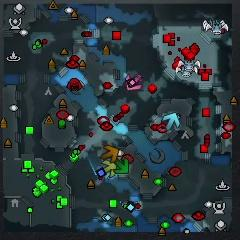x1: (125, 73, 144, 91)
x2: (100, 160, 116, 178)
x3: (162, 113, 180, 132)
x4: (113, 158, 131, 176)
x5: (100, 144, 120, 163)
